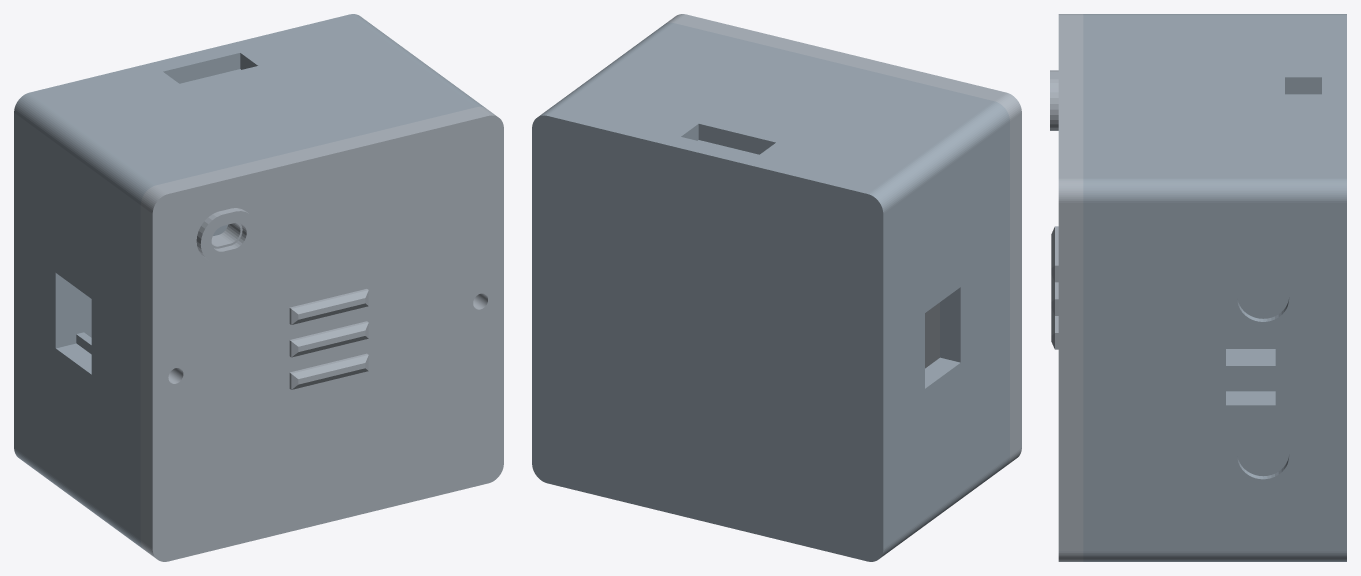
Rendered from pod.glb.
3 renders of one model, left to right at view 1: azimuth 30°, elevation 25°; view 2: azimuth 150°, elevation 25°; view 3: azimuth 270°, elevation 25°, orthographic. The views are drawn at different scales.
Parts seen in each view (by area): view 1: pod_lid, pod_shell; view 2: pod_shell, pod_lid; view 3: pod_shell, pod_lid.
Part boxes in pixels (<box>): pod_lid: <box>140,106,503,561</box>; pod_shell: <box>14,14,485,549</box>; pod_shell: <box>532,22,1009,561</box>; pod_lid: <box>665,14,1021,465</box>; pod_shell: <box>1083,14,1346,561</box>; pod_lid: <box>1050,14,1083,561</box>.
Size of the model in its own units: 68 by 68 by 47.89.
